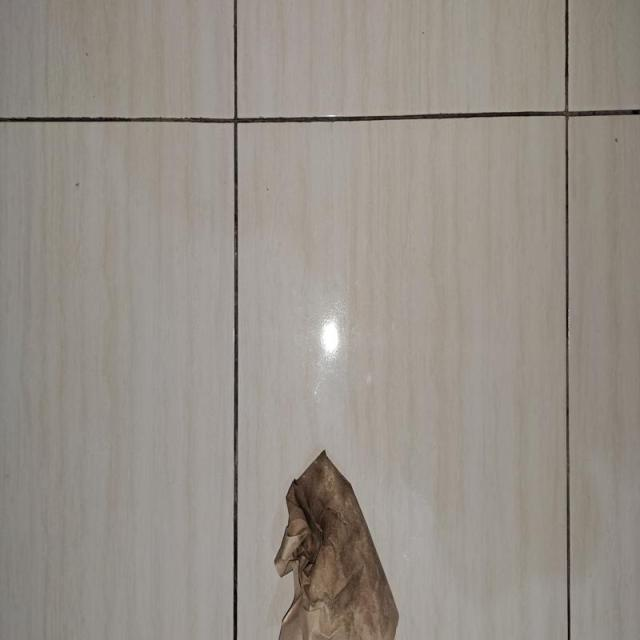Organik: (256, 446, 410, 640)
